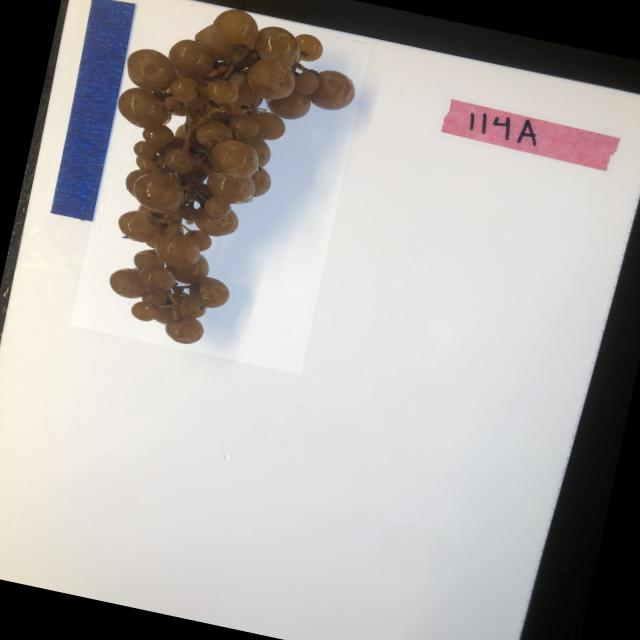grape_cluster: (69, 0, 372, 374)
index: (437, 94, 621, 174)
measure_label: (42, 0, 142, 223)
